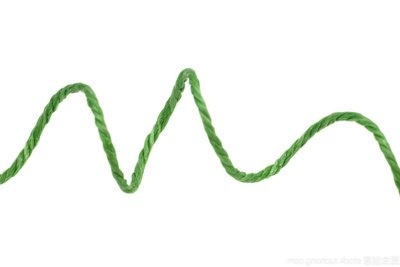9/可回收垃圾/绳子: (1, 68, 400, 195)
